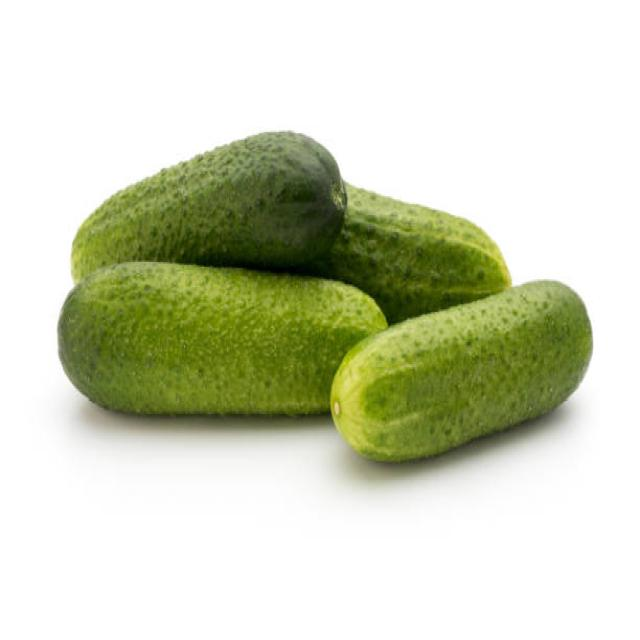cucumber: (56, 256, 386, 424), (332, 278, 594, 466), (69, 127, 348, 288), (334, 180, 512, 328)
